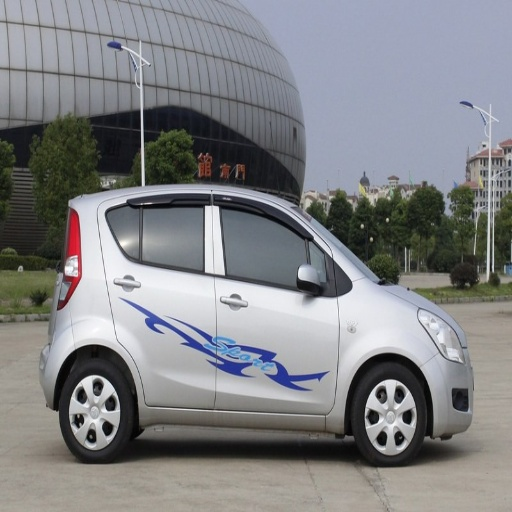back_right_door: (105, 192, 214, 410)
back_right_light: (57, 210, 81, 308)
front_right_door: (214, 193, 339, 414)
